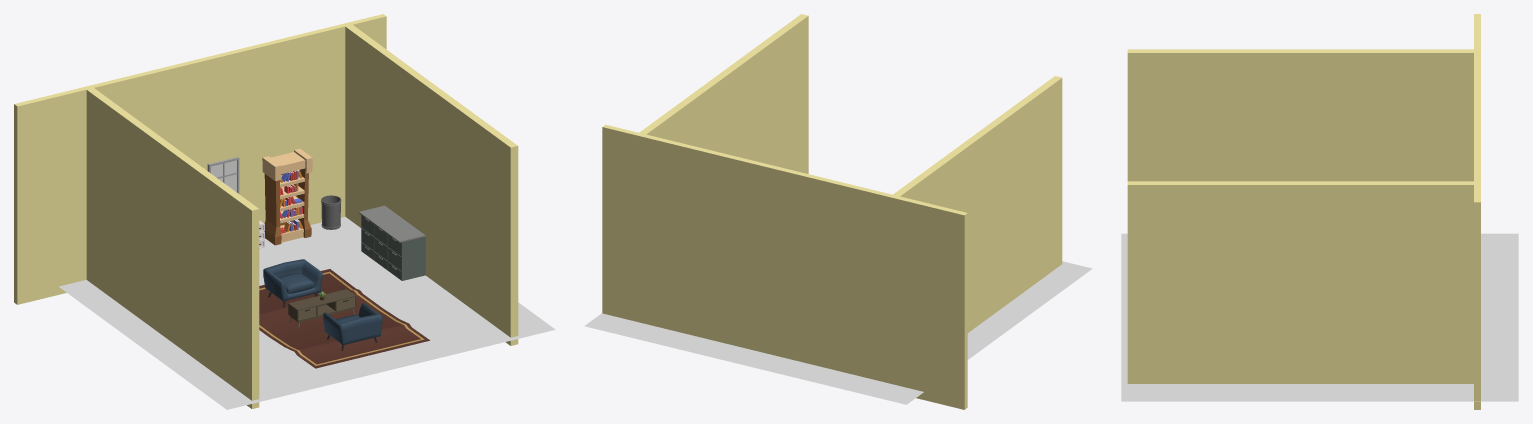
Rendered from FixMyMindDoctor.fbx.
3 renders of one model, left to right at view 1: azimuth 30°, elevation 25°; view 2: azimuth 150°, elevation 25°; view 3: azimuth 270°, elevation 25°, orthographic. The views are drawn at different scales.
Visible parts, largest first — view 1: Cube.001, Plane, Carpet_1, BookCaseBooks, Couch_Small1, Kitchen_3Drawers.002, Couch_Small1.001, Drawer_2, Kitchen_3Drawers.001, Kitchen_3Drawers, Window_Small2, Trashcan_Cylindric; view 2: Cube.001, Plane; view 3: Cube.001, Plane.
Part boxes in pixels (x1,y1,x2,y2): Cube.001: (14, 14, 518, 408); Plane: (59, 216, 555, 409); Carpet_1: (259, 269, 429, 368); BookCaseBooks: (262, 148, 312, 245); Couch_Small1: (263, 259, 322, 307); Kitchen_3Drawers.002: (386, 225, 425, 280); Couch_Small1.001: (323, 303, 382, 350); Drawer_2: (288, 289, 356, 329); Kitchen_3Drawers.001: (372, 215, 411, 270); Kitchen_3Drawers: (358, 205, 397, 260); Window_Small2: (207, 157, 239, 193); Trashcan_Cylindric: (321, 195, 341, 229); Cube.001: (602, 14, 1062, 409); Plane: (584, 261, 1092, 404); Cube.001: (1127, 14, 1480, 409); Plane: (1121, 233, 1518, 401).
Bounding box in the file's own units: 25.53 × 13.09 × 22.7.
